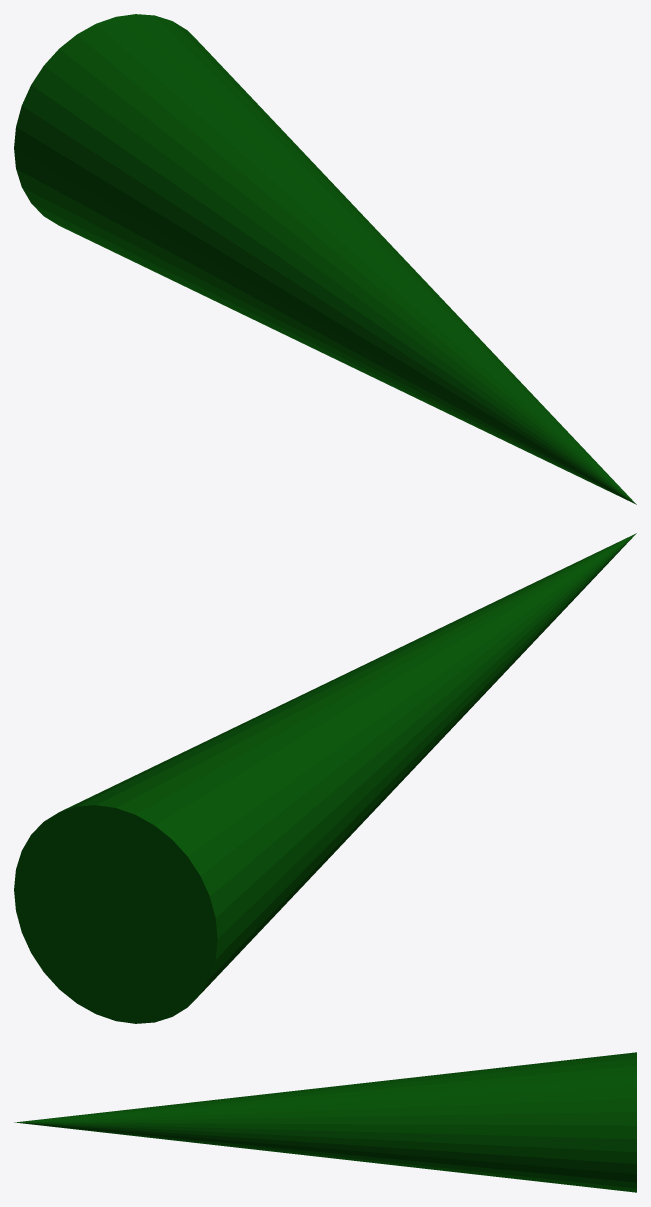
File: Stachel.fbx
3 views of the same model, one above another, from view 1: azimuth 30°, elevation 25°; view 2: azimuth 150°, elevation 25°; view 3: azimuth 270°, elevation 25° (orthographic). The views are drawn at different scales.
Parts seen in each view (by area): view 1: Stachel; view 2: Stachel; view 3: Stachel.
Part boxes in pixels (bbox=[...]): Stachel: bbox=[14, 14, 636, 504]; Stachel: bbox=[14, 533, 636, 1023]; Stachel: bbox=[14, 1052, 636, 1192].
Bounding box in the file's own units: 109 × 109 × 484.
